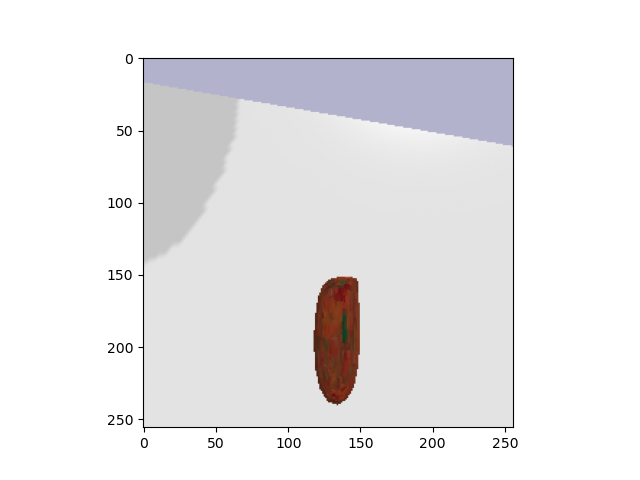v249b387_106: (308, 272, 373, 410)
